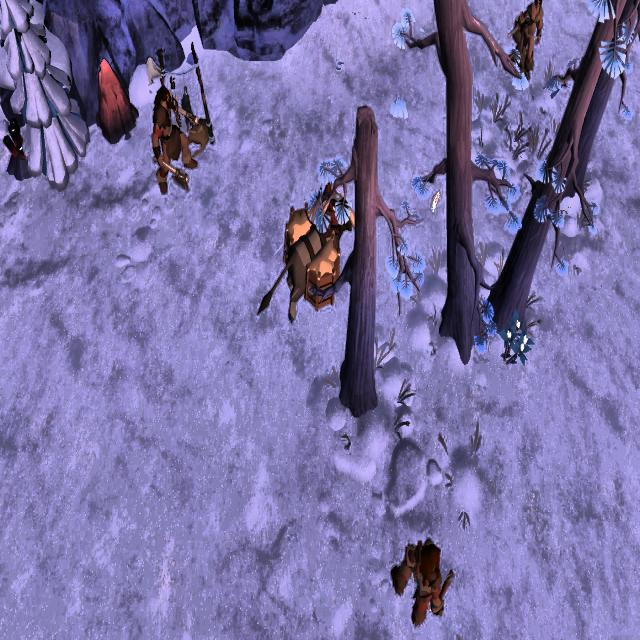enemy_factionKeeper: (392, 532, 450, 628), (511, 0, 547, 73)
fiber_t4: (499, 308, 532, 370)
ore_t5: (1, 115, 27, 163)
rock_t5: (93, 56, 138, 142)
